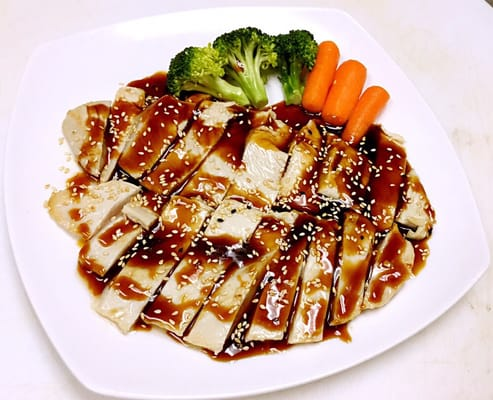curry: (166, 26, 318, 108)
